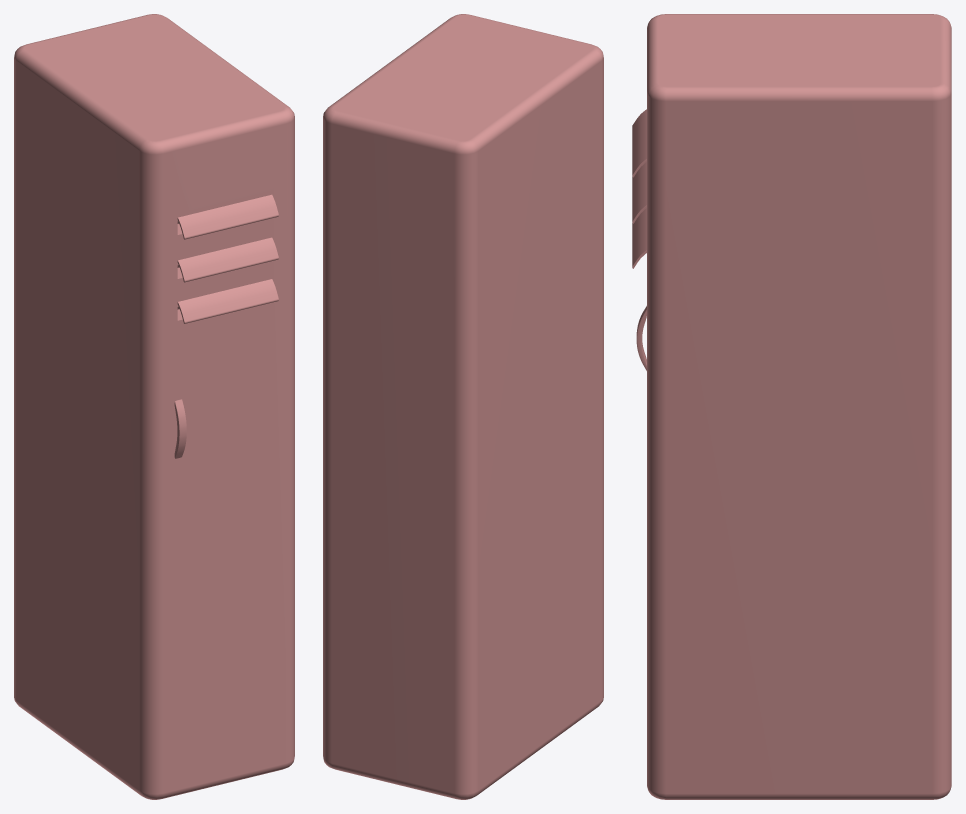
File: LockerFBX.fbx
3 views of the same model, side by side, from view 1: azimuth 30°, elevation 25°; view 2: azimuth 150°, elevation 25°; view 3: azimuth 270°, elevation 25° (orthographic). The views are drawn at different scales.
Visible parts, largest first — view 1: pCube12; view 2: pCube12; view 3: pCube12.
Part boxes in pixels (x1,y1,x2,y2): pCube12: [14, 14, 294, 799]; pCube12: [323, 14, 603, 799]; pCube12: [632, 14, 951, 799].
Size of the model in its own units: 2.1 by 8.59 by 3.49.
